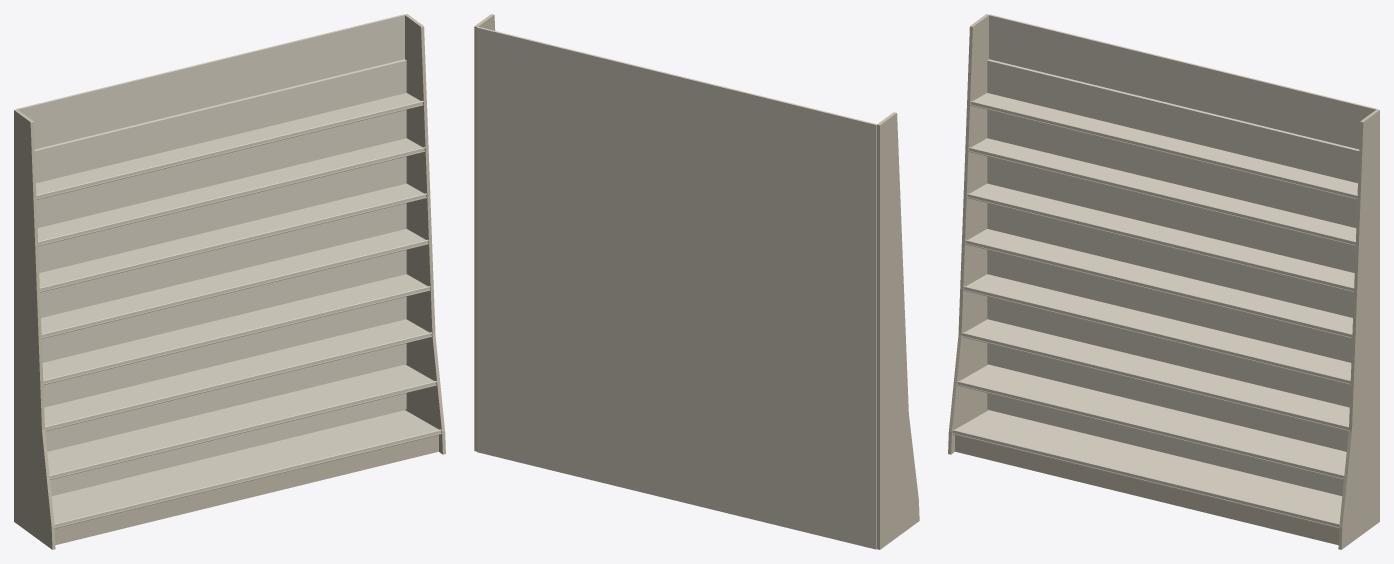
The model's file is new-release-wall.glb.
3 renders of one model, left to right at view 1: azimuth 30°, elevation 25°; view 2: azimuth 150°, elevation 25°; view 3: azimuth 330°, elevation 25°, orthographic. The views are drawn at different scales.
Parts seen in each view (by area): view 1: Backing, HighBack_7, LeftEnd, HighBack_6, Deck_0, HighBack_5, HighBack_4, Deck_1, HighBack_3, RightEnd, HighBack_2, HighBack_1 (+16 smaller); view 2: Backing, LeftEnd, RightEnd; view 3: Backing, HighBack_7, RightEnd, HighBack_6, Deck_0, HighBack_5, HighBack_4, Deck_1, HighBack_3, LeftEnd, HighBack_2, HighBack_1 (+16 smaller).
Boxes of the visible parts, x1=… form: Backing: x1=17, y1=14, x2=404, y2=495; HighBack_7: x1=34, y1=59, x2=406, y2=183; LeftEnd: x1=14, y1=109, x2=55, y2=549; HighBack_6: x1=36, y1=110, x2=406, y2=227; Deck_0: x1=51, y1=410, x2=438, y2=523; HighBack_5: x1=38, y1=156, x2=406, y2=272; HighBack_4: x1=40, y1=203, x2=406, y2=317; Deck_1: x1=47, y1=364, x2=434, y2=474; HighBack_3: x1=41, y1=250, x2=406, y2=362; RightEnd: x1=405, y1=14, x2=445, y2=454; HighBack_2: x1=43, y1=296, x2=406, y2=407; HighBack_1: x1=45, y1=343, x2=406, y2=451; Backing: x1=477, y1=27, x2=876, y2=549; LeftEnd: x1=877, y1=112, x2=919, y2=549; RightEnd: x1=474, y1=14, x2=495, y2=451; Backing: x1=989, y1=14, x2=1376, y2=495; HighBack_7: x1=987, y1=59, x2=1359, y2=183; RightEnd: x1=1338, y1=109, x2=1379, y2=549; HighBack_6: x1=987, y1=110, x2=1357, y2=227; Deck_0: x1=955, y1=410, x2=1342, y2=523; HighBack_5: x1=987, y1=156, x2=1355, y2=272; HighBack_4: x1=987, y1=203, x2=1353, y2=317; Deck_1: x1=959, y1=364, x2=1346, y2=474; HighBack_3: x1=987, y1=250, x2=1352, y2=362; LeftEnd: x1=948, y1=14, x2=988, y2=454; HighBack_2: x1=987, y1=296, x2=1350, y2=407; HighBack_1: x1=987, y1=343, x2=1348, y2=451.
Bounding box in the file's own units: 8 × 8 × 1.37.
